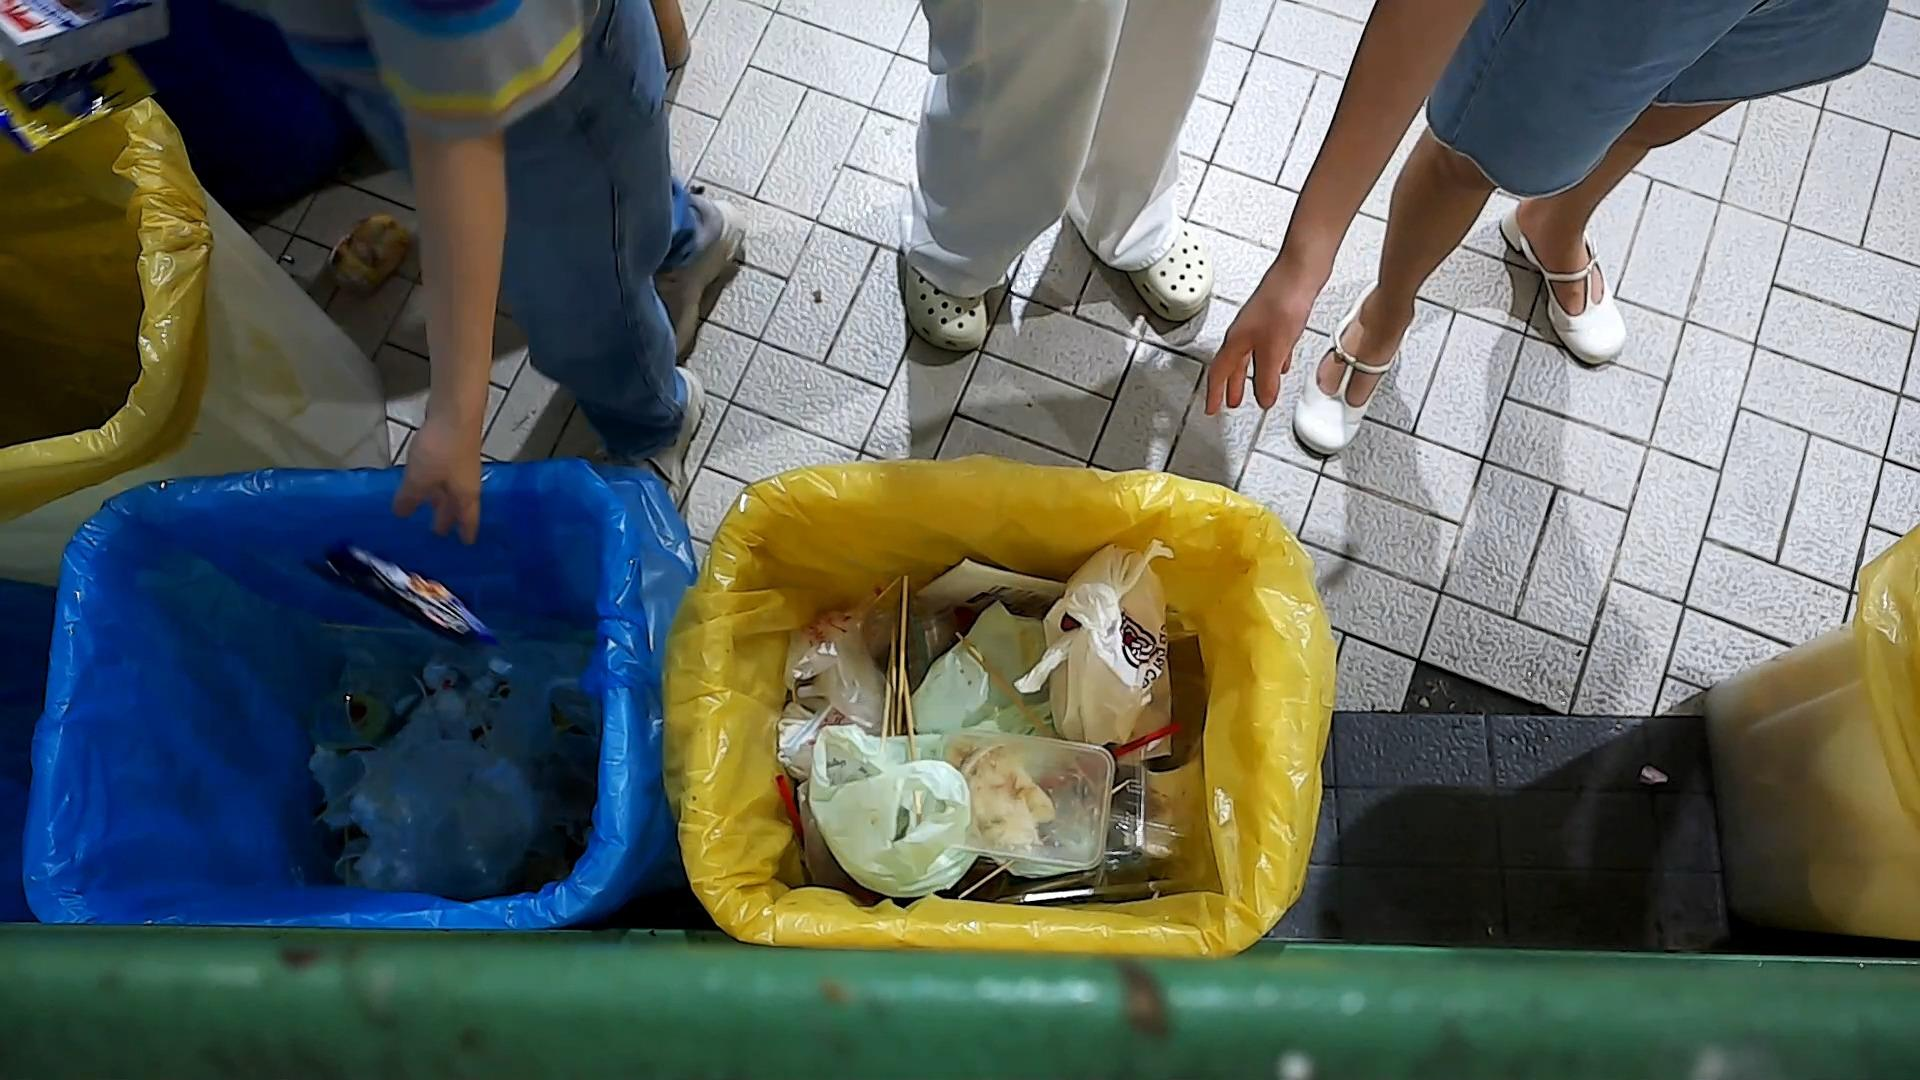dirty food container: (943, 727, 1116, 872)
filled plastic bag: (1011, 538, 1182, 760), (802, 707, 989, 903)
milk carton: (0, 0, 179, 87)
plastic bag: (344, 654, 564, 906), (775, 597, 885, 748)
plastic cup: (302, 654, 431, 757)
snack packaging: (297, 535, 506, 650), (0, 45, 160, 161)
sticks: (956, 775, 1133, 901), (952, 630, 1055, 740), (305, 753, 398, 831), (902, 667, 924, 819), (465, 692, 500, 762), (895, 574, 910, 736), (880, 622, 897, 749)
straw: (1109, 717, 1185, 760), (773, 773, 807, 855)
